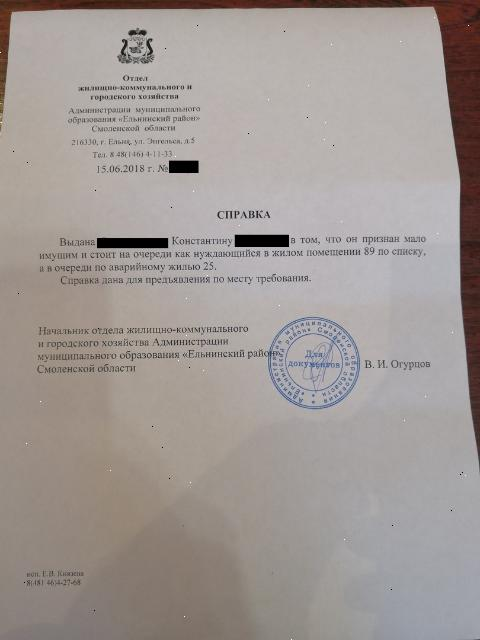stamp: (268, 316, 360, 410)
